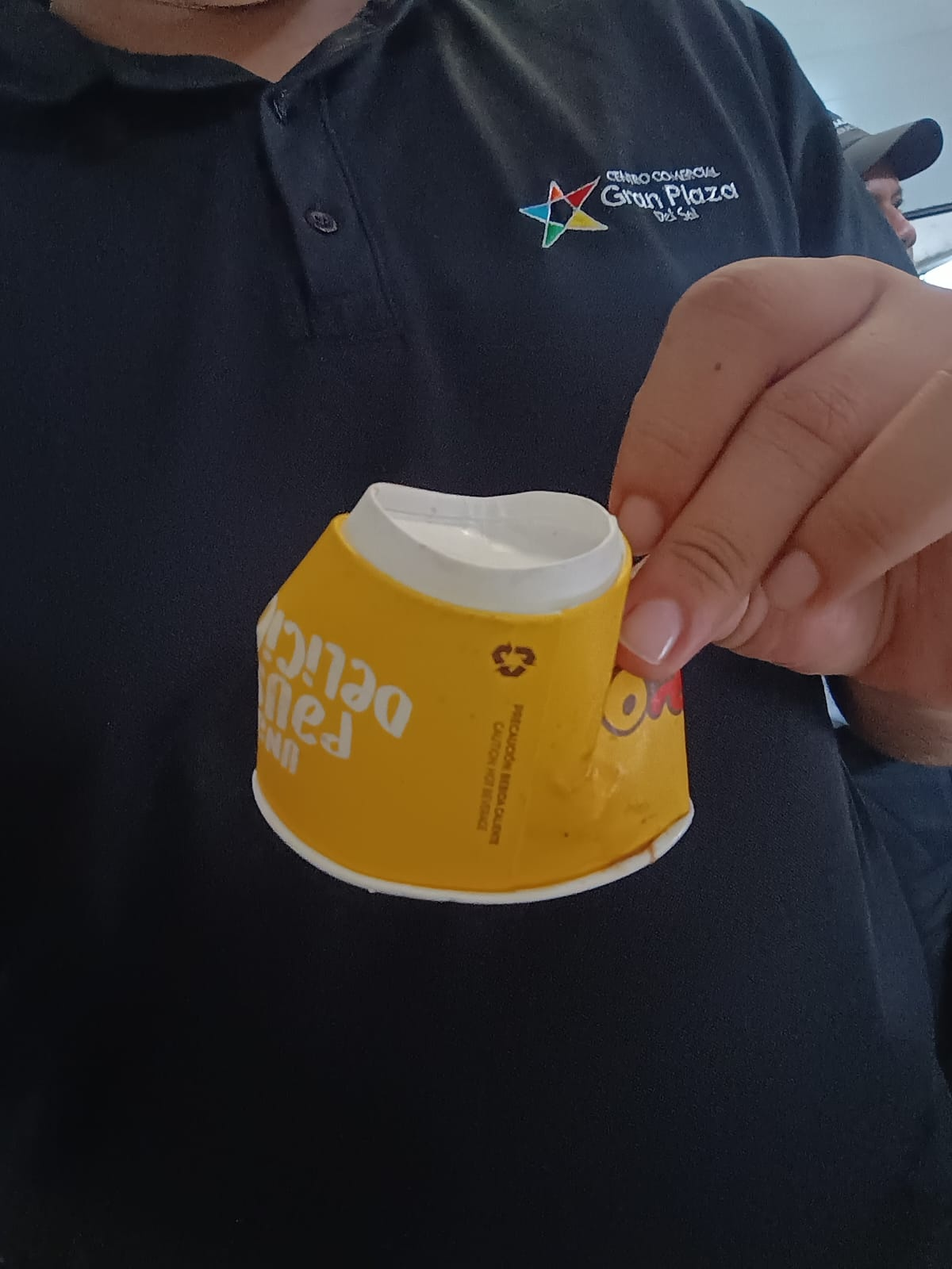Carton: (251, 480, 694, 904)
